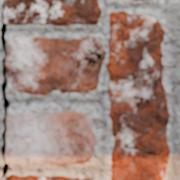brick: (108, 12, 169, 179), (6, 37, 104, 94), (6, 112, 96, 165), (5, 0, 100, 25), (2, 175, 78, 179)
crack: (0, 2, 10, 177), (68, 48, 104, 76)
